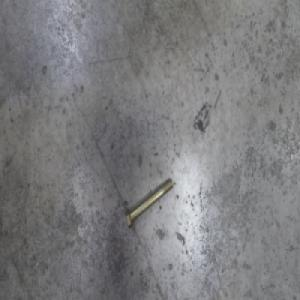Bolt: (124, 174, 174, 232)
